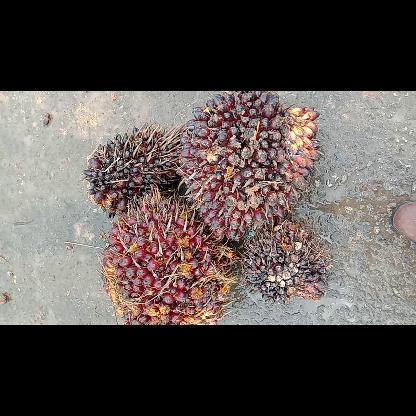Kurang masak: (183, 90, 321, 238)
TBS abnormal: (84, 123, 180, 215), (240, 222, 330, 302)
TBS masak: (102, 194, 235, 324)
